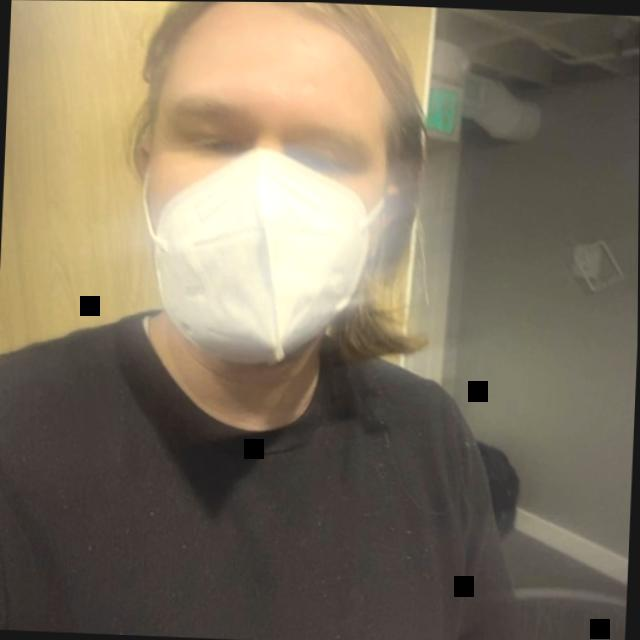Mask: (93, 1, 451, 367)
